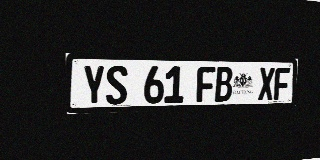1: (164, 66, 184, 103)
6: (144, 66, 164, 104)
B: (215, 67, 233, 102)
F: (196, 66, 215, 102), (274, 67, 290, 100)
S: (106, 65, 127, 105)
X: (258, 67, 275, 100)
Y: (82, 65, 105, 105)
